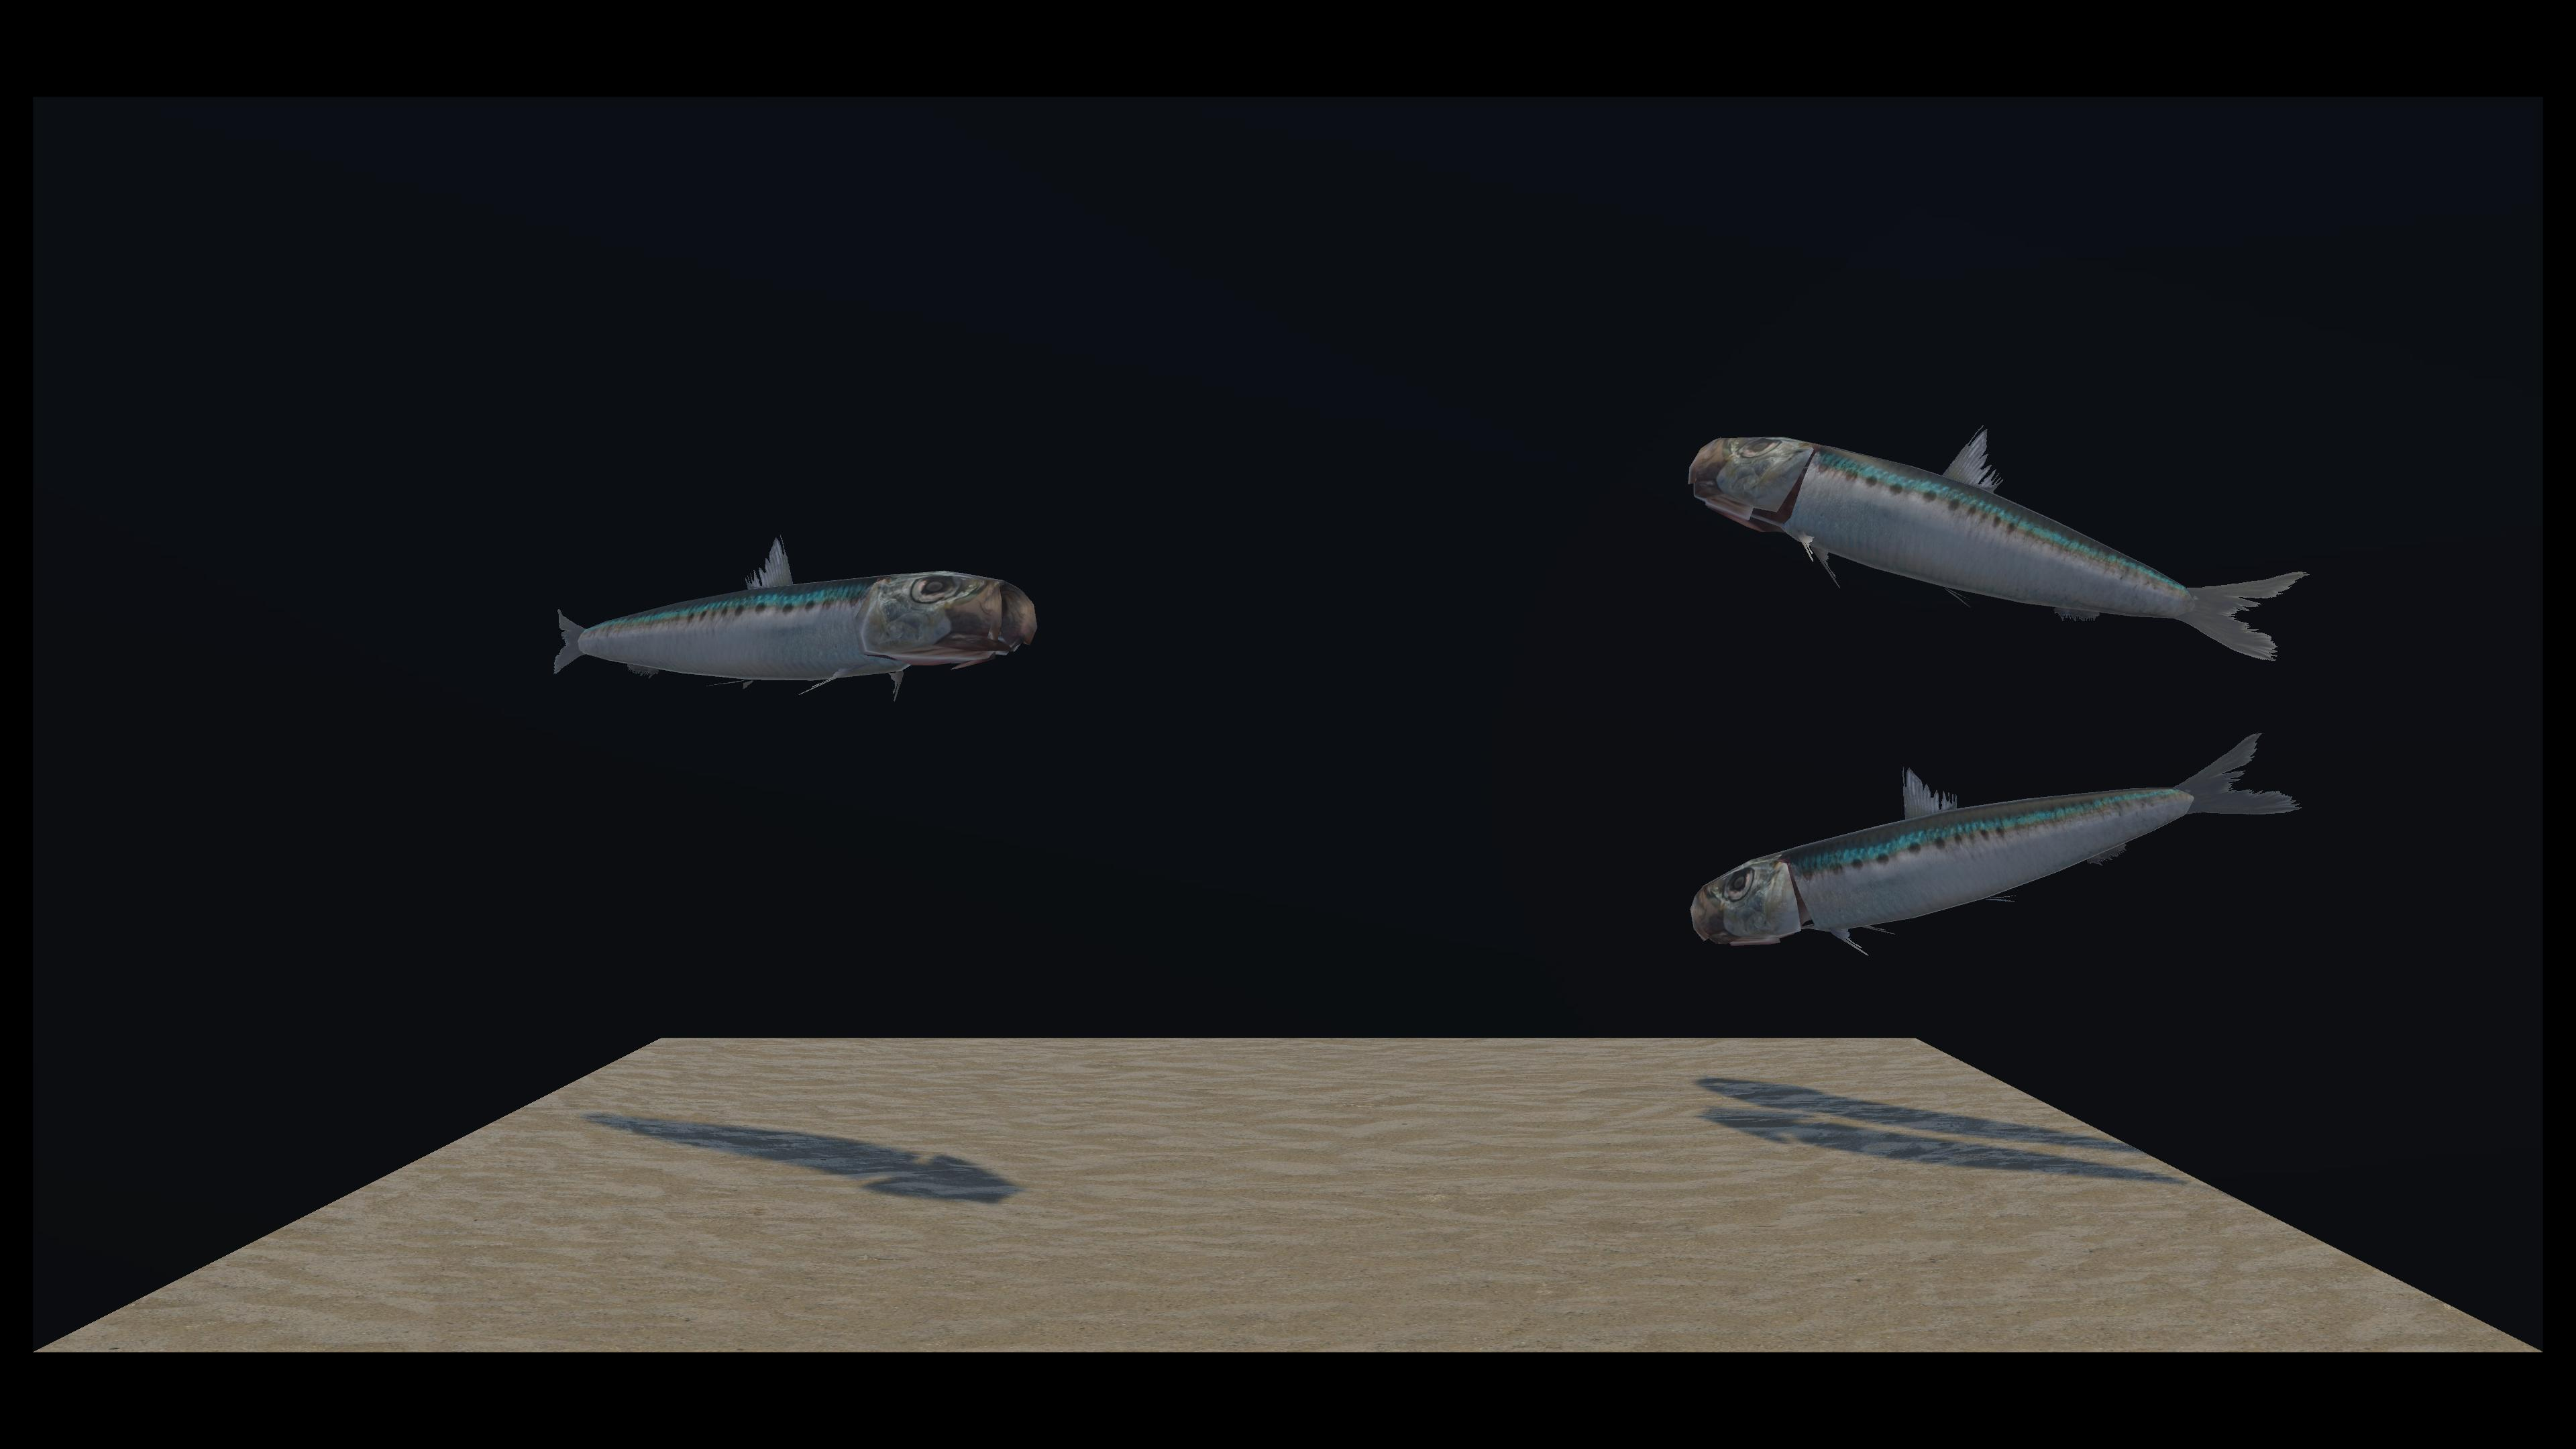Sardine_Front: (959, 435, 2300, 964), (941, 441, 2300, 660), (556, 287, 1001, 711)
